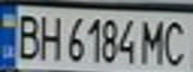1: (81, 15, 103, 63)
4: (118, 16, 142, 65)
6: (63, 12, 87, 63)
8: (100, 16, 121, 64)
B: (9, 10, 42, 61)
C: (160, 16, 193, 68)
H: (36, 11, 63, 62)
M: (139, 16, 172, 66)
